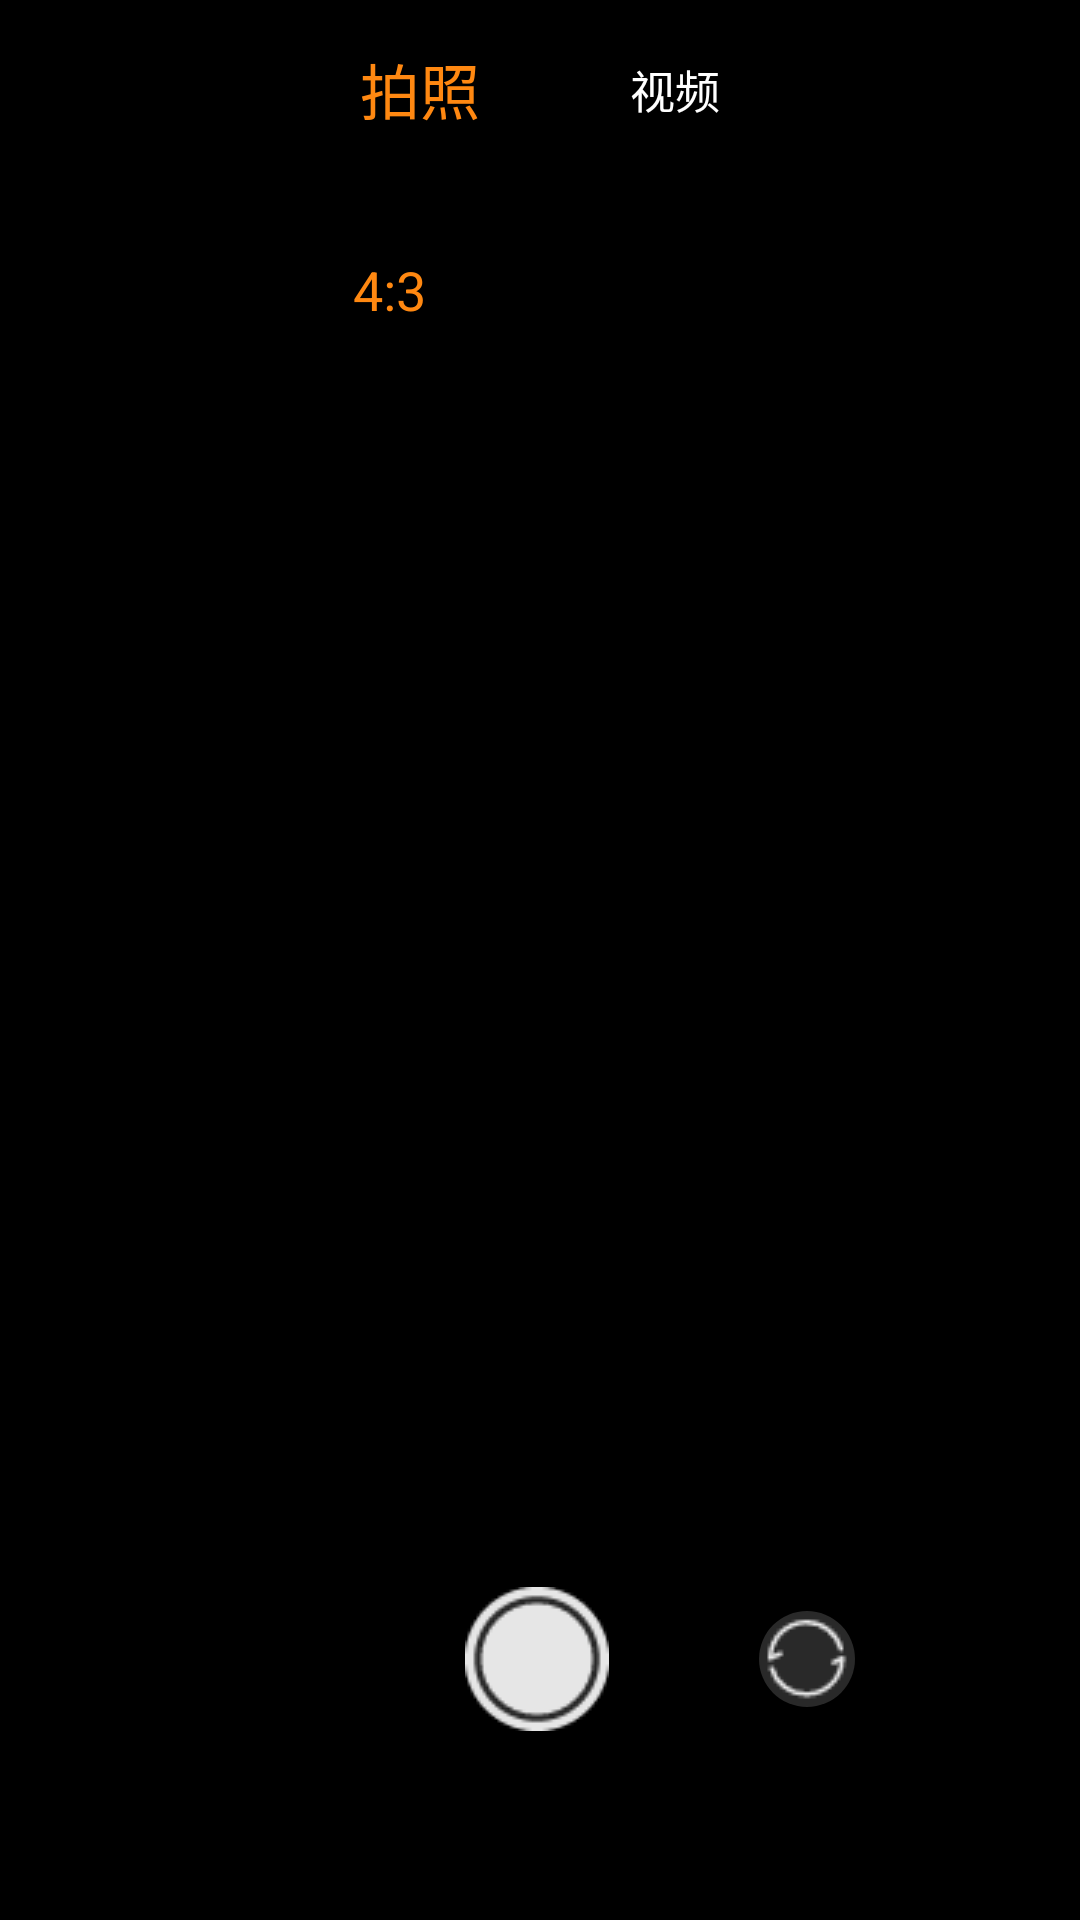

Named icons in this screenshot (1080px x 1920px) and their centers, [x,y]:
change: [807,1659]
takephoto: [537,1659]
